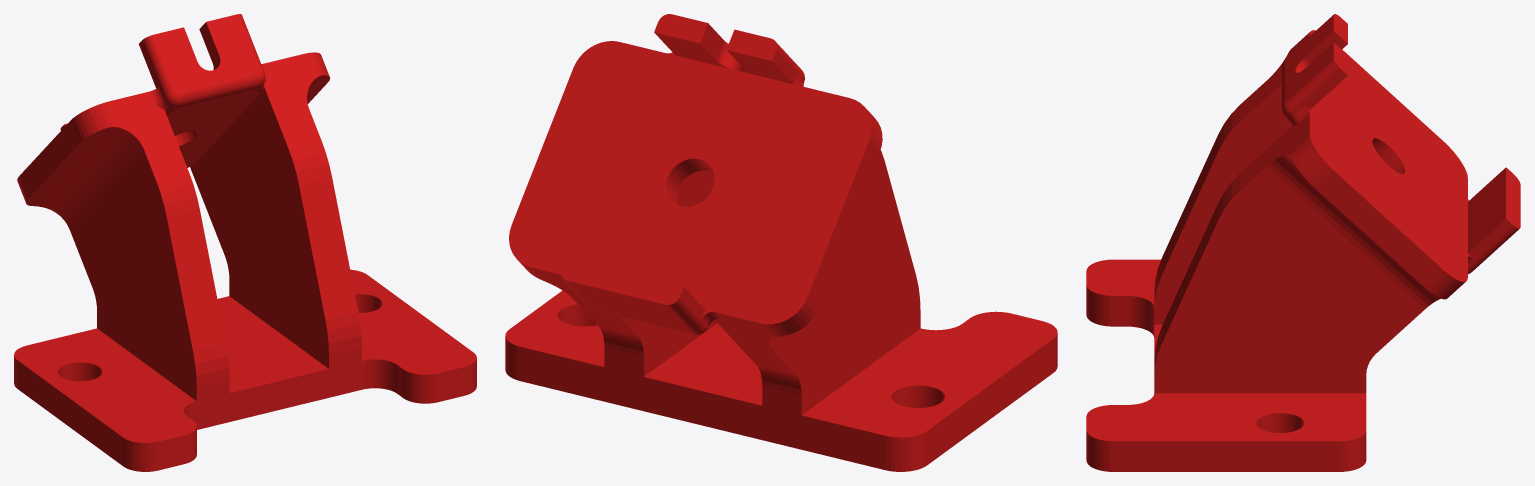
The model's file is zed_holder_45.dae.
3 views of the same model, side by side, from view 1: azimuth 30°, elevation 25°; view 2: azimuth 150°, elevation 25°; view 3: azimuth 270°, elevation 25° (orthographic). The views are drawn at different scales.
Visible parts, largest first — view 1: ZED_Holder_45; view 2: ZED_Holder_45; view 3: ZED_Holder_45.
Boxes of the visible parts, x1,y1,x2,y2 form: ZED_Holder_45: (14, 14, 476, 471); ZED_Holder_45: (505, 14, 1057, 471); ZED_Holder_45: (1086, 14, 1520, 471).
Bounding box in the file's own units: 0.0635 × 0.0641 × 0.0561.
